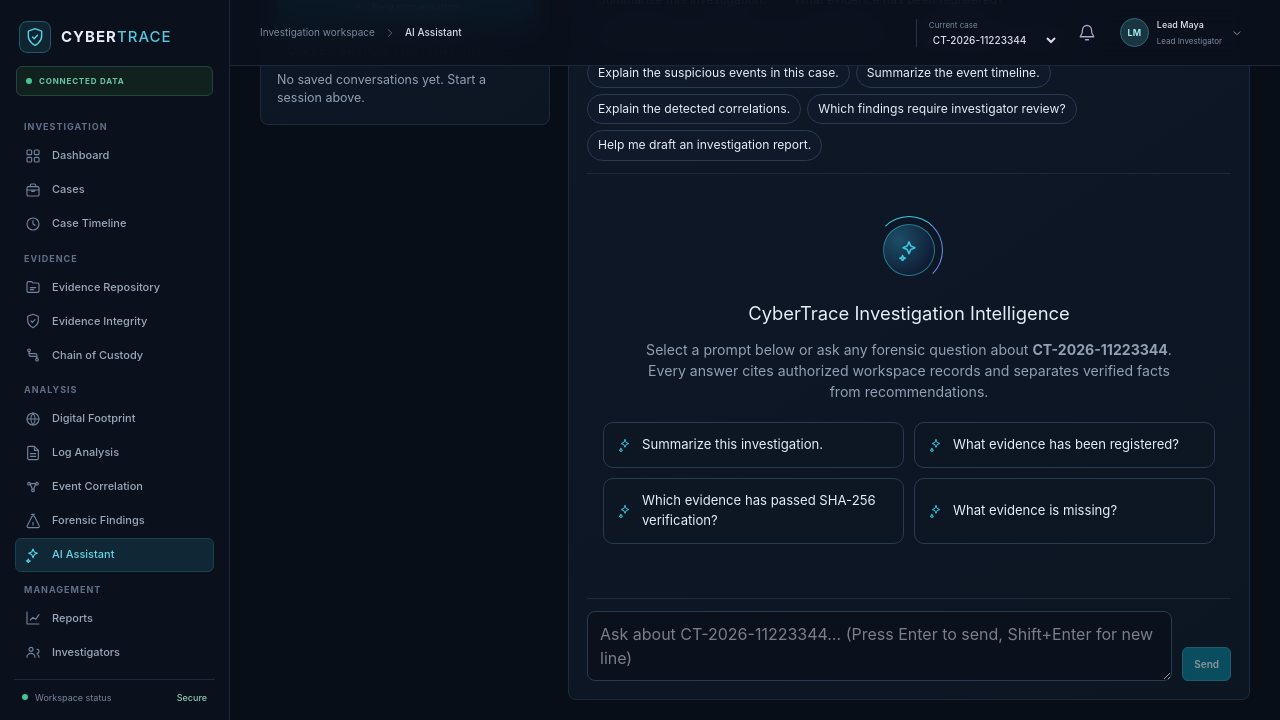
Test: CyberTrace AI Investigation Assistant UI › renders sidebar link, chat UI, sends messages, and renders evidence citations
(page scrolled)
Expected: the link "AI Assistant" is shown, x1=15 y1=538 x2=214 y2=572
Replace the text in the text box named "Ask the AI Investigation Assistant" with "Which evidence has passed SHA-256 verification?" at (880, 646), box x1=587 y1=610 x2=1172 y2=680
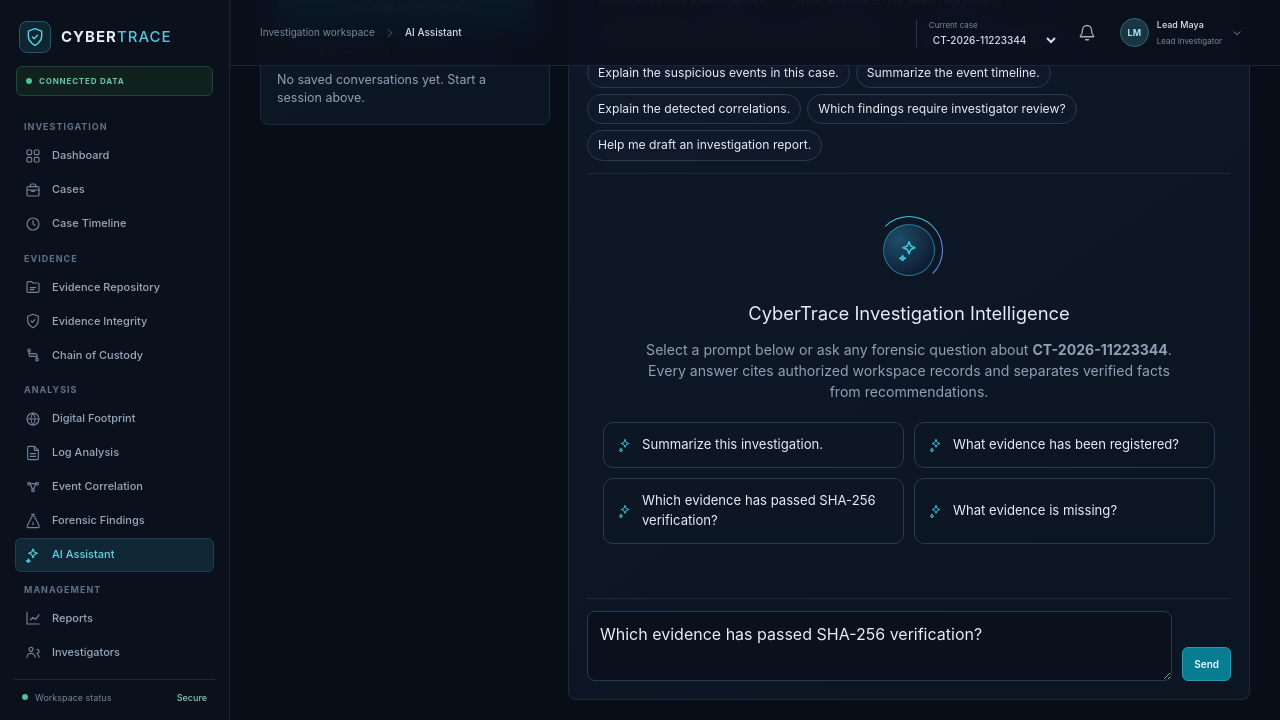
Click the button "Send" at (1207, 664), box x1=1182 y1=646 x2=1231 y2=680
(page scrolled)
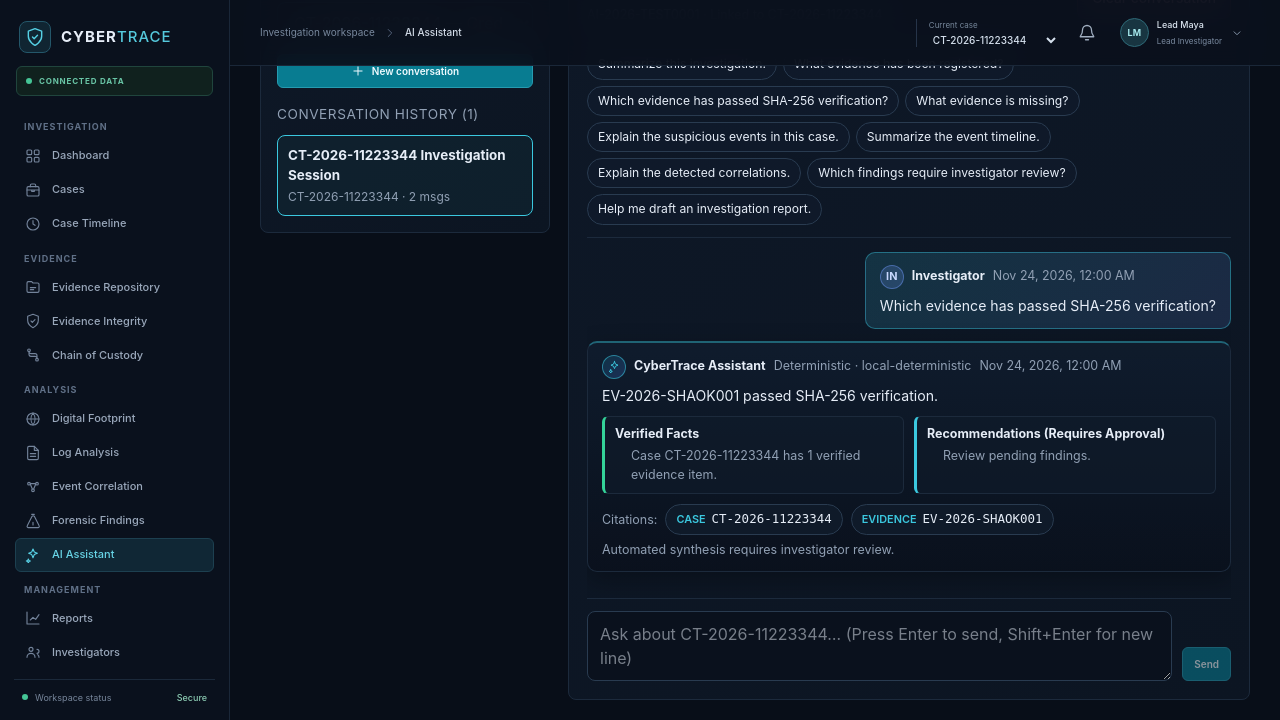
Now the text "EV-2026-SHAOK001 passed SHA-256 verification." is shown, box x1=602 y1=387 x2=938 y2=404
Now the link "Evidence EV-2026-SHAOK001" is shown, box x1=851 y1=504 x2=1054 y2=535
